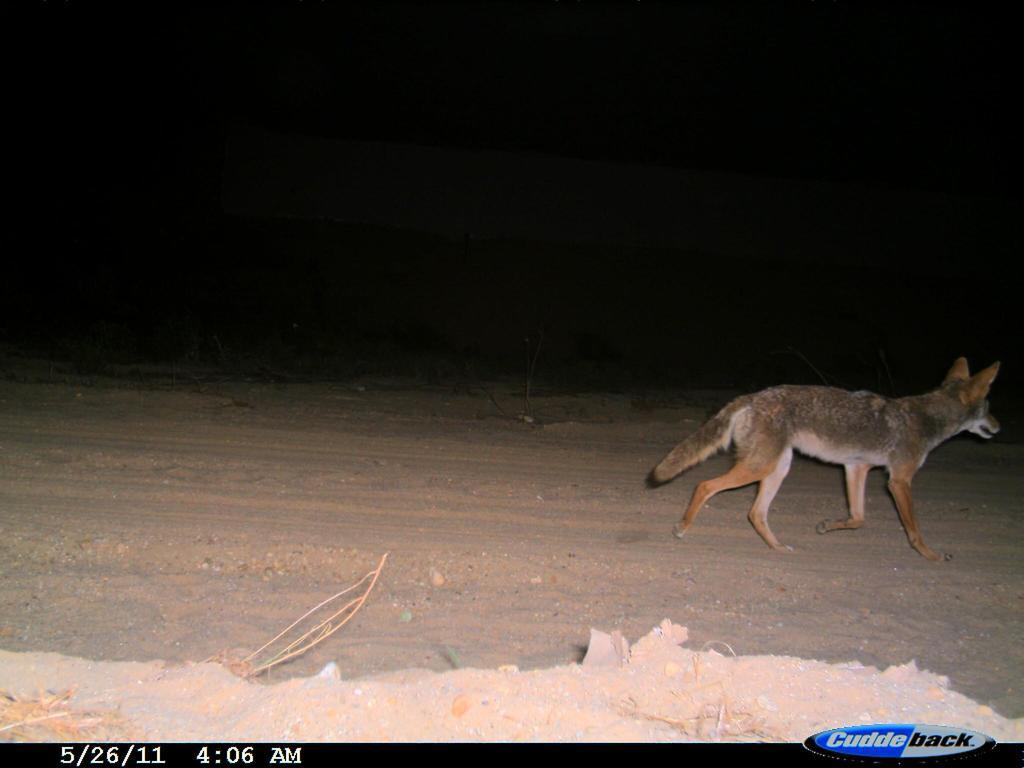coyote: (635, 346, 1013, 573)
